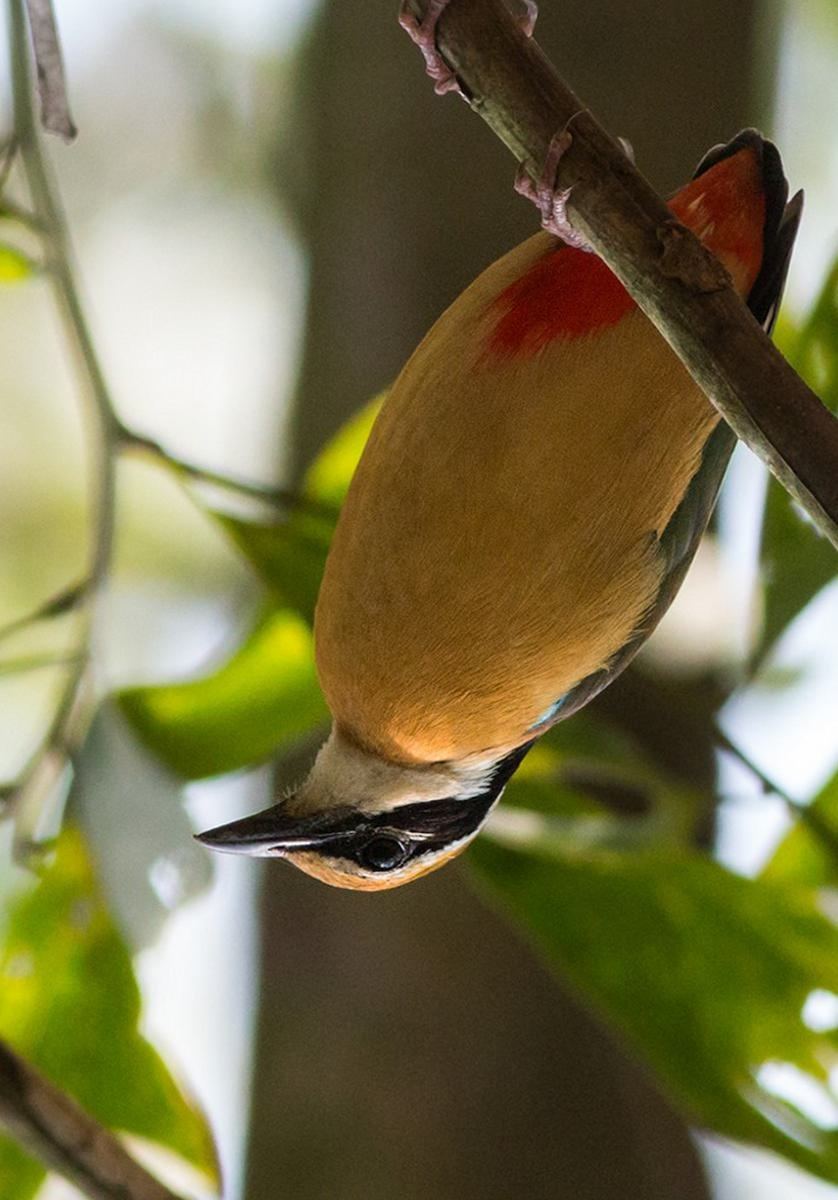pitta: (181, 91, 804, 947)
